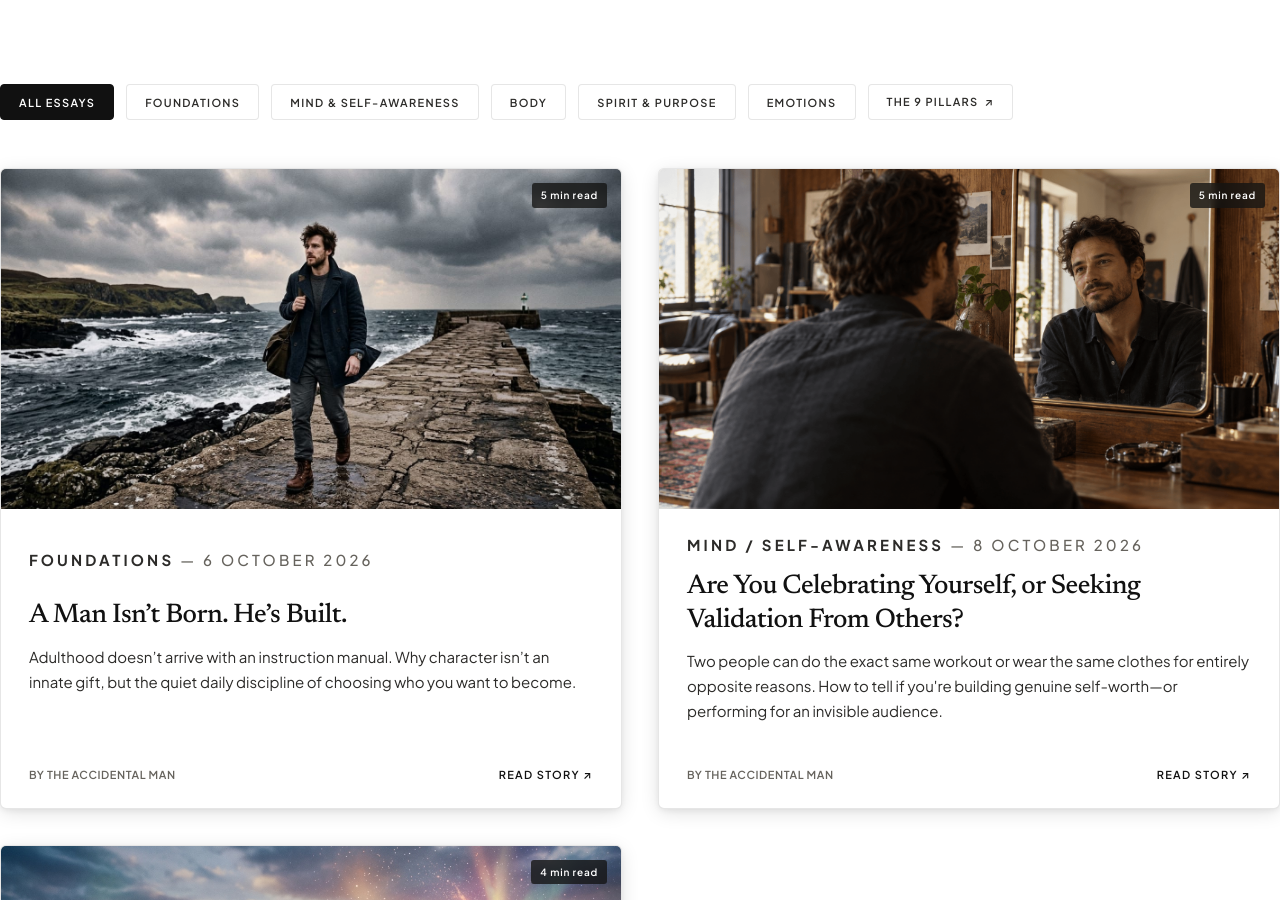
Test: Button & Filter Functionality: JournalFeed › filters stories when clicking category filter buttons
Click the button "FOUNDATIONS": (193, 102) [126,84,259,120]
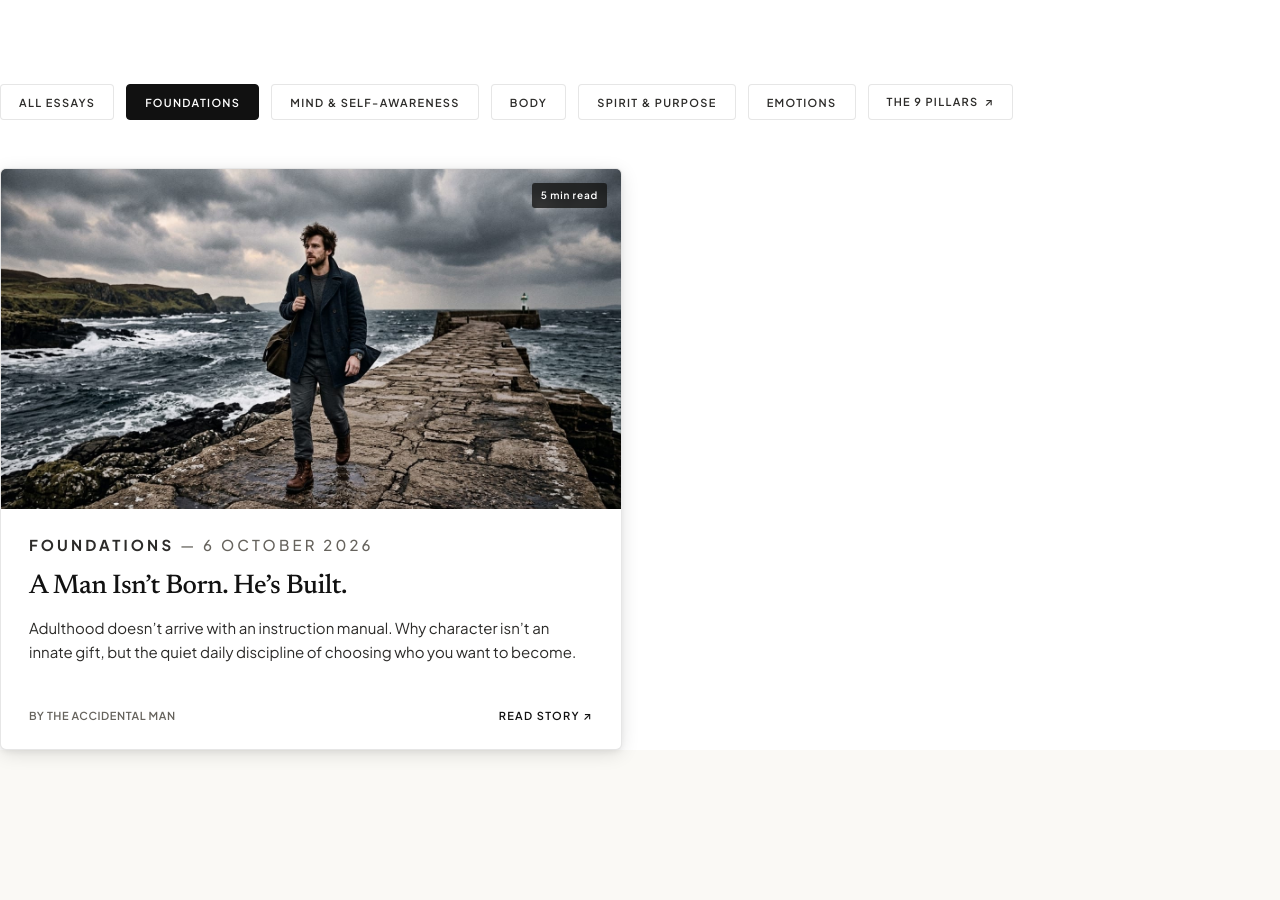
expect the heading "A Man Isn’t Born. He’s Built." is shown: met, box [29,573,347,600]
expect the button "FOUNDATIONS" is pressed: met, box [126,84,259,120]
Click the button "MIND & SELF-AWARENESS": (375, 102) [271,84,479,120]
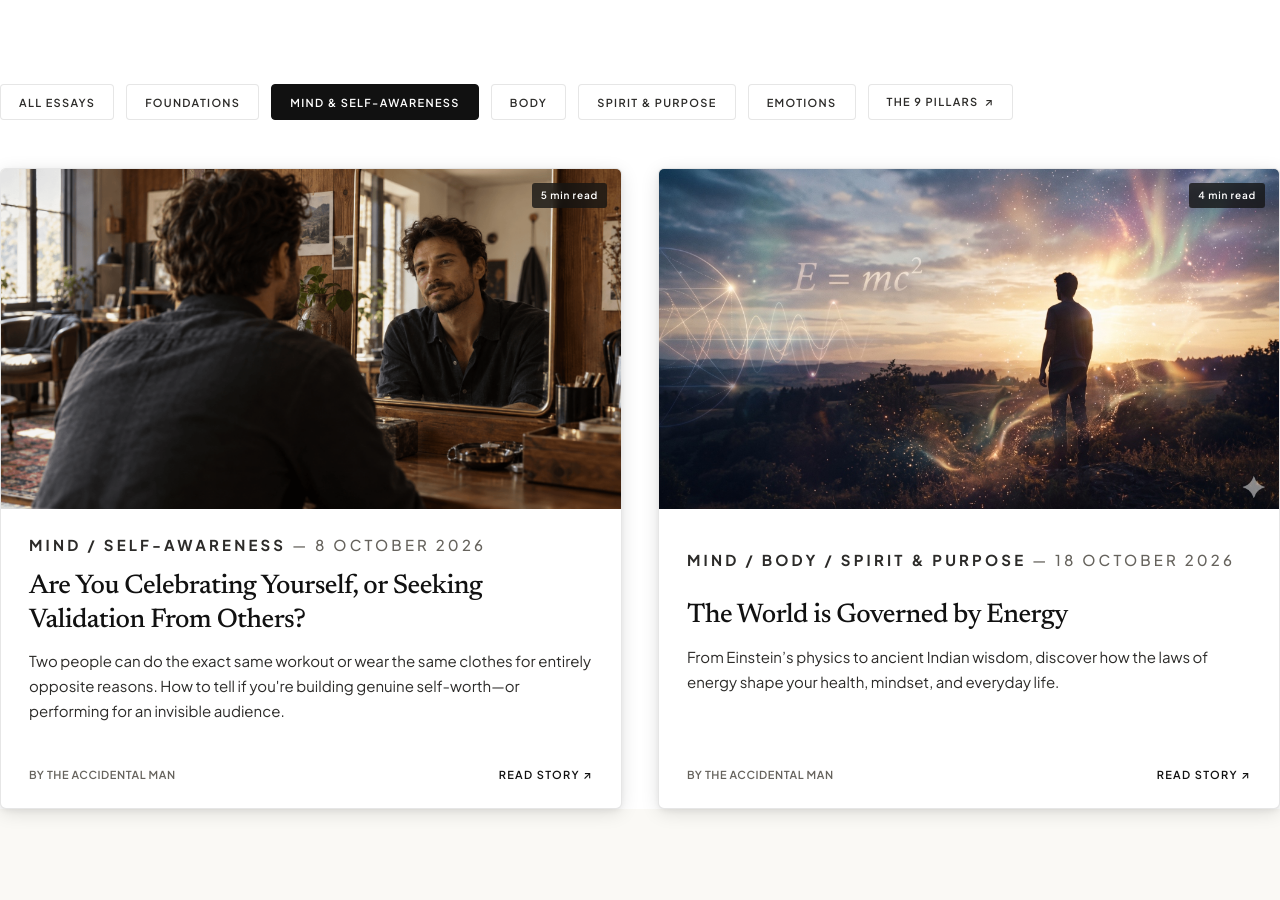
expect the heading "Are You Celebrating Yourself, or Seeking Validation From Others?" is shown: met, box [29,573,482,634]
// Click ALL ESSAYS to reset
Click the button "ALL ESSAYS": (57, 102) [0,84,114,120]
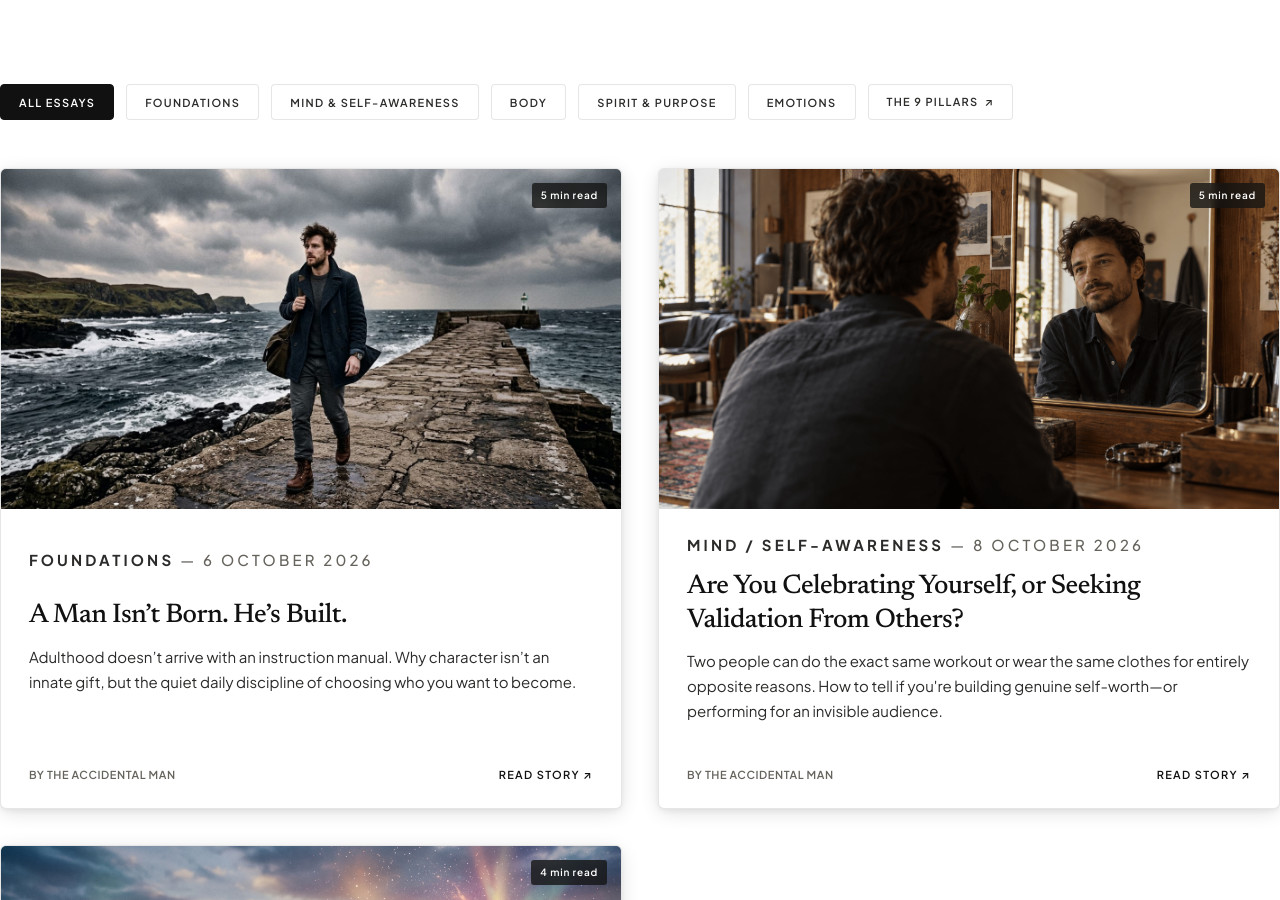
expect the heading "Are You Celebrating Yourself, or Seeking Validation From Others?" is shown: met, box [687,573,1140,634]
expect the heading "A Man Isn’t Born. He’s Built." is shown: met, box [29,602,347,629]
